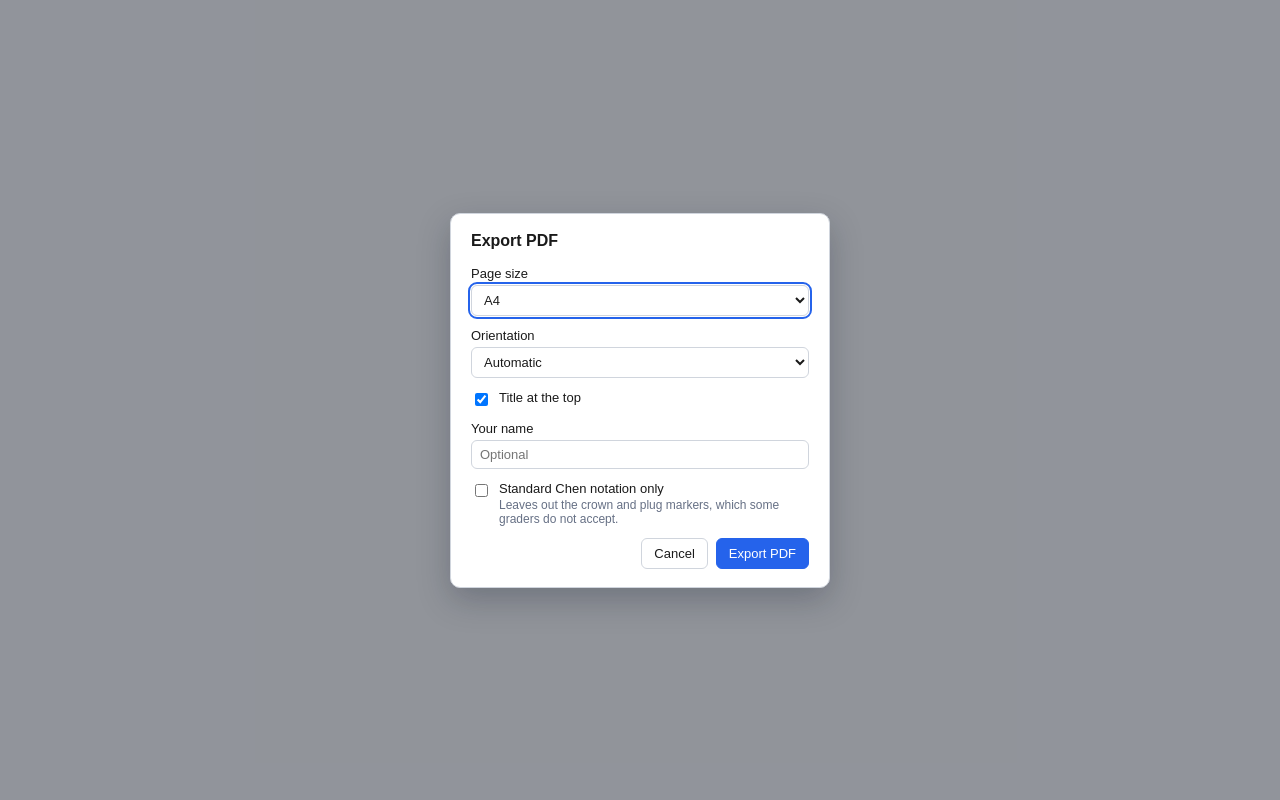
Test: ExportDialog › greys out the name when there is no header to put it in
What coordinates should you click on to do the following:
click the checkbox labelled "Title at the top"
I would click on:
 (482, 399)
Its box is [475,392,488,406].
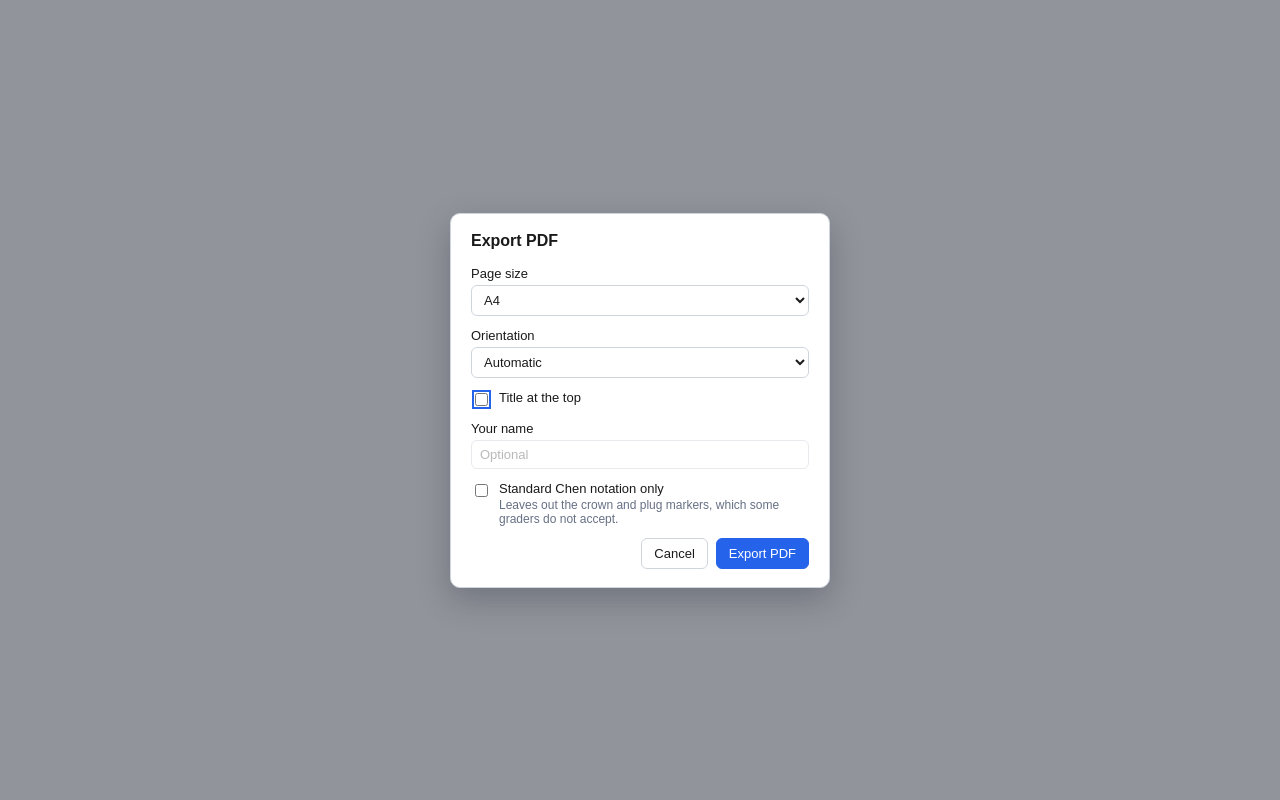
Expected: the field labelled "Your name" is disabled, [471,440,809,468]
